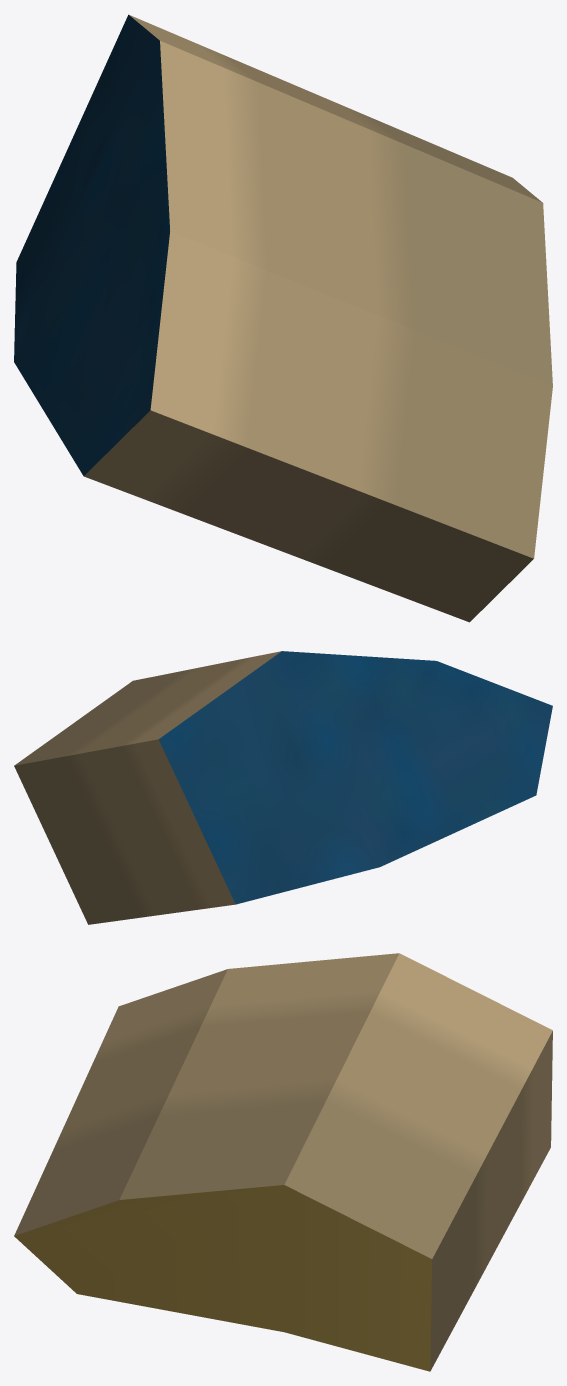
The model's file is 069e_Taiwan.glb.
3 views of the same model, one above another, from view 1: azimuth 30°, elevation 25°; view 2: azimuth 150°, elevation 25°; view 3: azimuth 270°, elevation 25° (orthographic). The views are drawn at different scales.
Visible parts, largest first — view 1: part_0; view 2: part_0; view 3: part_0.
Boxes of the visible parts, x1,y1,x2,y2 form: part_0: (14, 14, 552, 622); part_0: (14, 651, 552, 924); part_0: (14, 953, 552, 1371).
Bounding box in the file's own units: 0.3032 × 0.2193 × 0.3289.
1 material, 1 textured.
